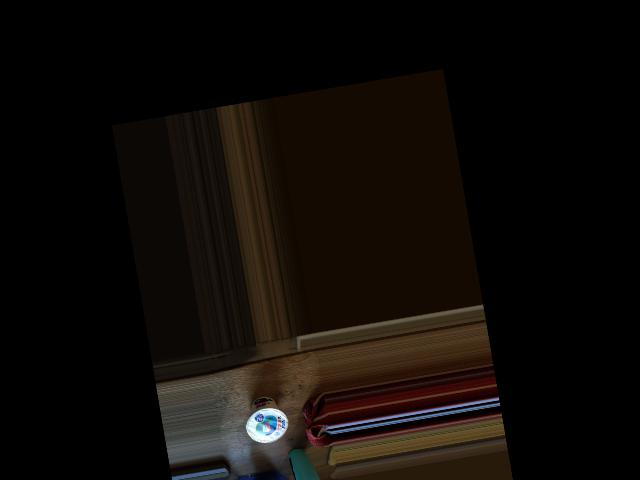cotage: (243, 392, 289, 447)
